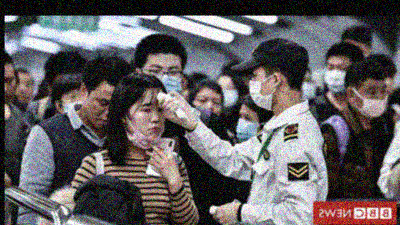mask_weared_incorrect: (127, 101, 167, 150)
with_mask: (144, 62, 182, 97), (357, 83, 389, 119), (247, 70, 272, 112), (323, 62, 349, 95), (235, 110, 260, 143), (215, 81, 238, 110), (300, 75, 315, 101)
without_mask: (85, 94, 113, 130), (12, 78, 33, 105), (4, 74, 17, 107)
